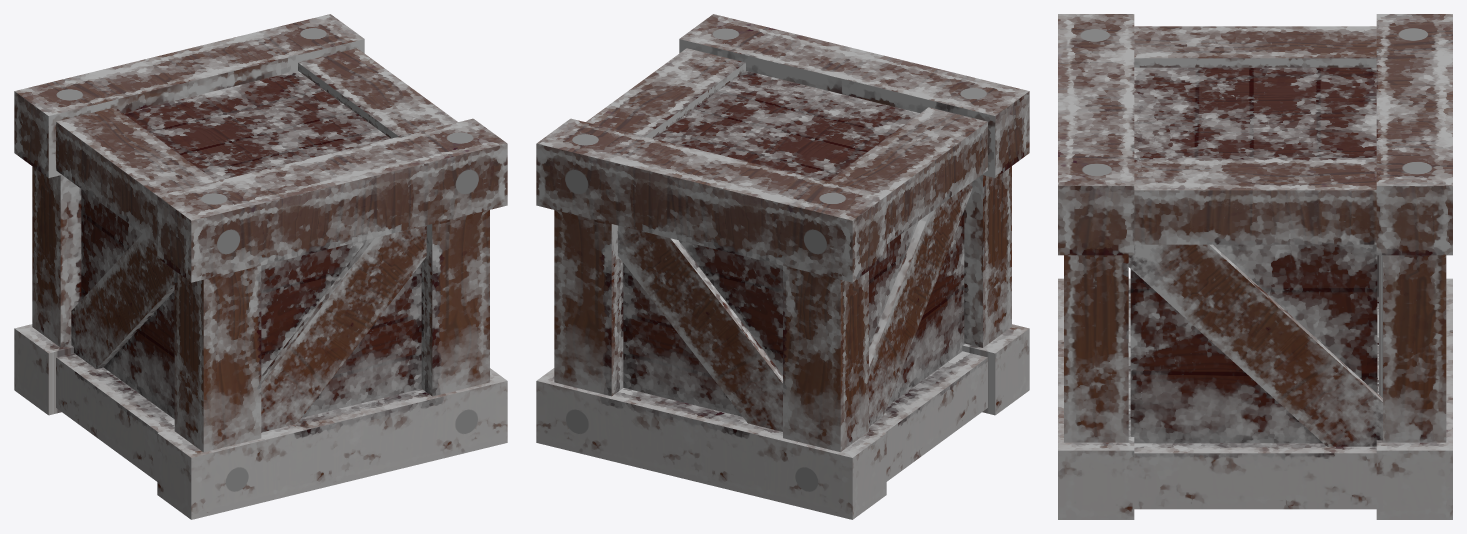
3 views of the same model, side by side, from view 1: azimuth 30°, elevation 25°; view 2: azimuth 150°, elevation 25°; view 3: azimuth 270°, elevation 25° (orthographic). The views are drawn at different scales.
Visible parts, largest first — view 1: normal_box; view 2: normal_box; view 3: normal_box.
Boxes of the visible parts, bbox=[...] form: normal_box: bbox=[14, 14, 507, 519]; normal_box: bbox=[536, 14, 1029, 519]; normal_box: bbox=[1058, 14, 1452, 519].
Size of the model in its own units: 3.23 by 2.92 by 3.13.
Materials: 1 (1 with a texture image).
